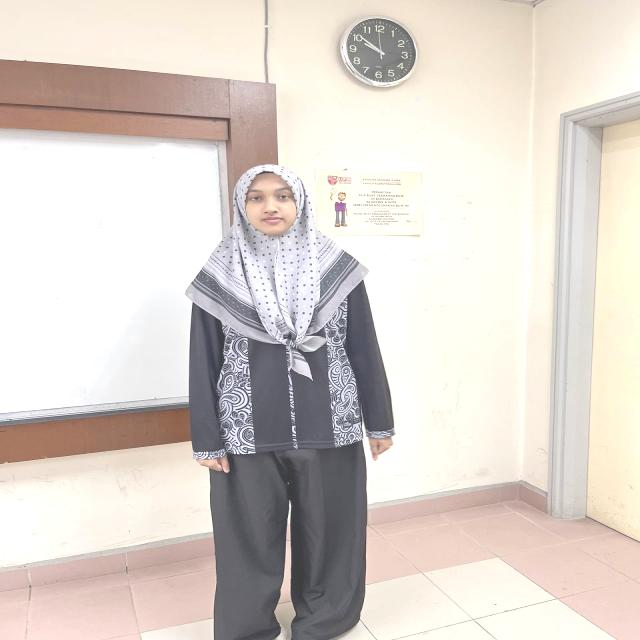person_without_labcoat: (186, 164, 394, 640)
